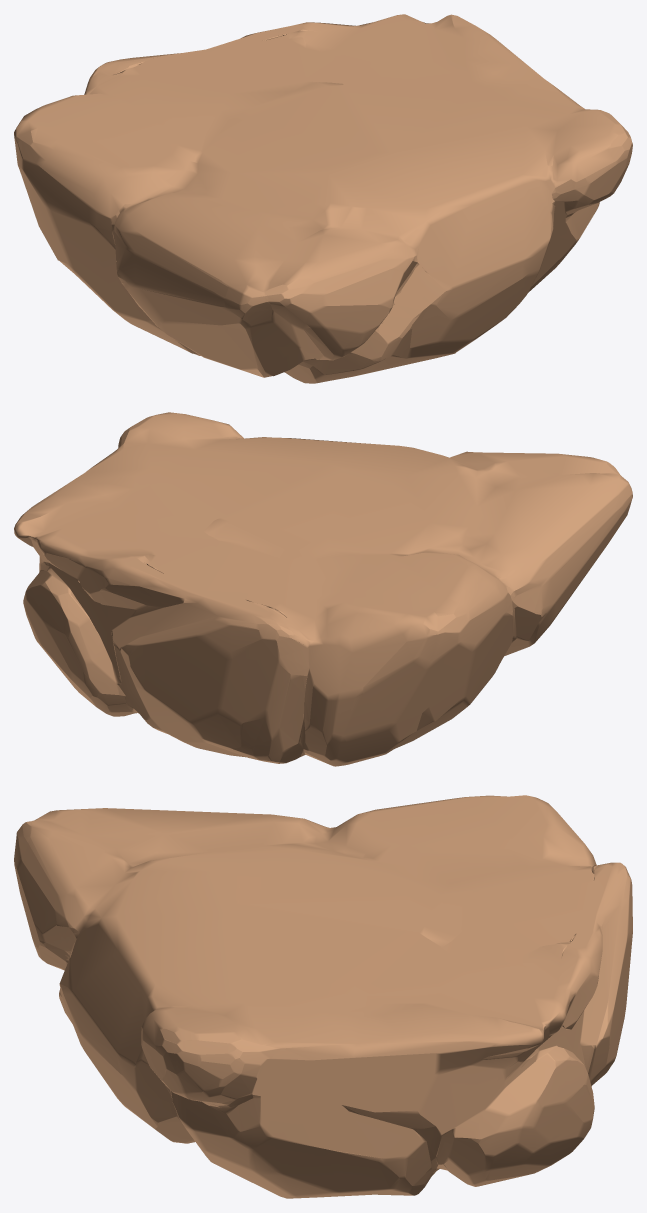
3 views of the same model, one above another, from view 1: azimuth 30°, elevation 25°; view 2: azimuth 150°, elevation 25°; view 3: azimuth 270°, elevation 25° (orthographic). The views are drawn at different scales.
Parts seen in each view (by area): view 1: Mesh_73_LOD0; view 2: Mesh_73_LOD0; view 3: Mesh_73_LOD0.
Boxes of the visible parts, box(x1,y1,x2,y2) form: Mesh_73_LOD0: box(14, 14, 632, 383); Mesh_73_LOD0: box(14, 412, 632, 766); Mesh_73_LOD0: box(14, 795, 632, 1198).
Size of what is drawn, in the model's own units: 1919 by 779 by 1939.
